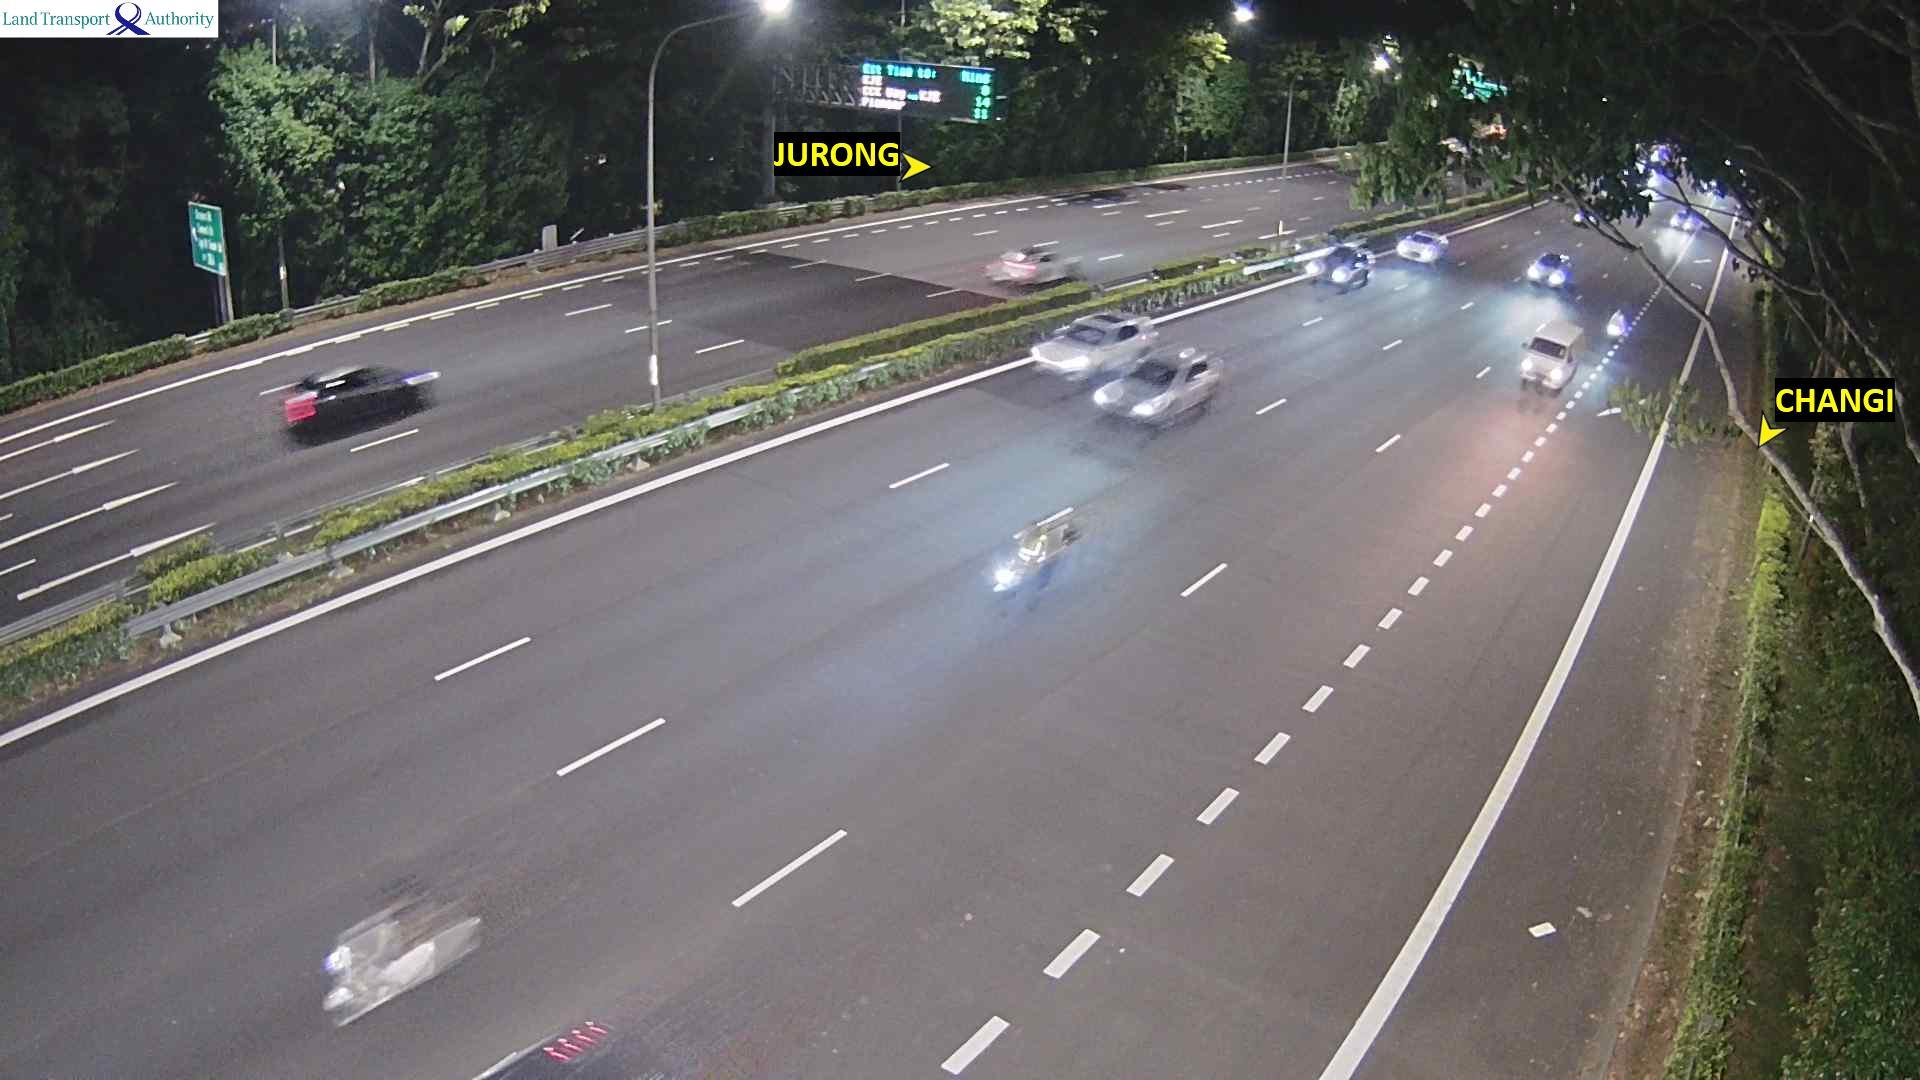cars: (319, 884, 484, 1029), (491, 1021, 748, 1080), (1091, 343, 1222, 429), (281, 363, 440, 430), (1029, 309, 1159, 380), (990, 504, 1081, 593), (1516, 318, 1582, 394), (981, 239, 1083, 286), (1305, 244, 1371, 291), (1586, 162, 1654, 204), (1395, 229, 1449, 264), (1524, 251, 1572, 289), (1604, 307, 1633, 343), (1669, 206, 1705, 233), (1571, 204, 1604, 228)
